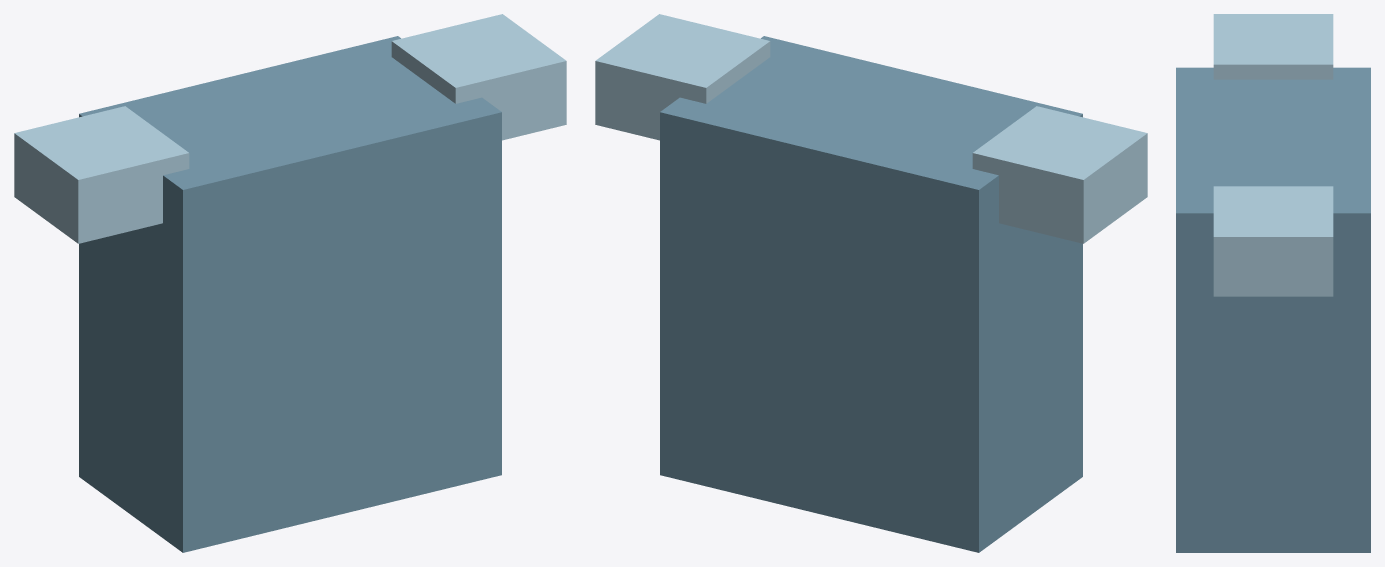
The model's file is body_light.glb.
The picture shows the model from 3 angles, left to right: view 1: azimuth 30°, elevation 25°; view 2: azimuth 150°, elevation 25°; view 3: azimuth 270°, elevation 25°; orthographic projection. The views are drawn at different scales.
Parts seen in each view (by area): view 1: HeavyChest_Main, HeavyChest_PaulR, HeavyChest_PaulL; view 2: HeavyChest_Main, HeavyChest_PaulR, HeavyChest_PaulL; view 3: HeavyChest_Main, HeavyChest_PaulL, HeavyChest_PaulR.
Part boxes in pixels (x1,y1,x2,y2): HeavyChest_Main: (79, 36, 501, 552); HeavyChest_PaulR: (14, 106, 189, 243); HeavyChest_PaulL: (391, 14, 566, 140); HeavyChest_Main: (660, 36, 1082, 552); HeavyChest_PaulR: (972, 106, 1147, 243); HeavyChest_PaulL: (595, 14, 770, 140); HeavyChest_Main: (1176, 67, 1370, 552); HeavyChest_PaulL: (1213, 186, 1333, 296); HeavyChest_PaulR: (1213, 14, 1333, 79).
Size of the model in its own units: 1.94 by 1.44 by 0.715.
